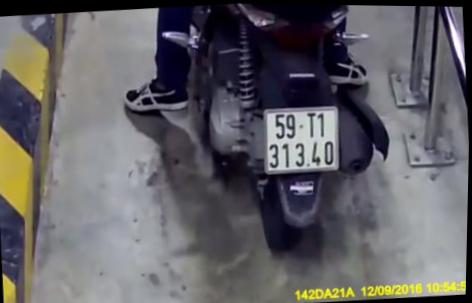LP: (260, 101, 343, 176)
